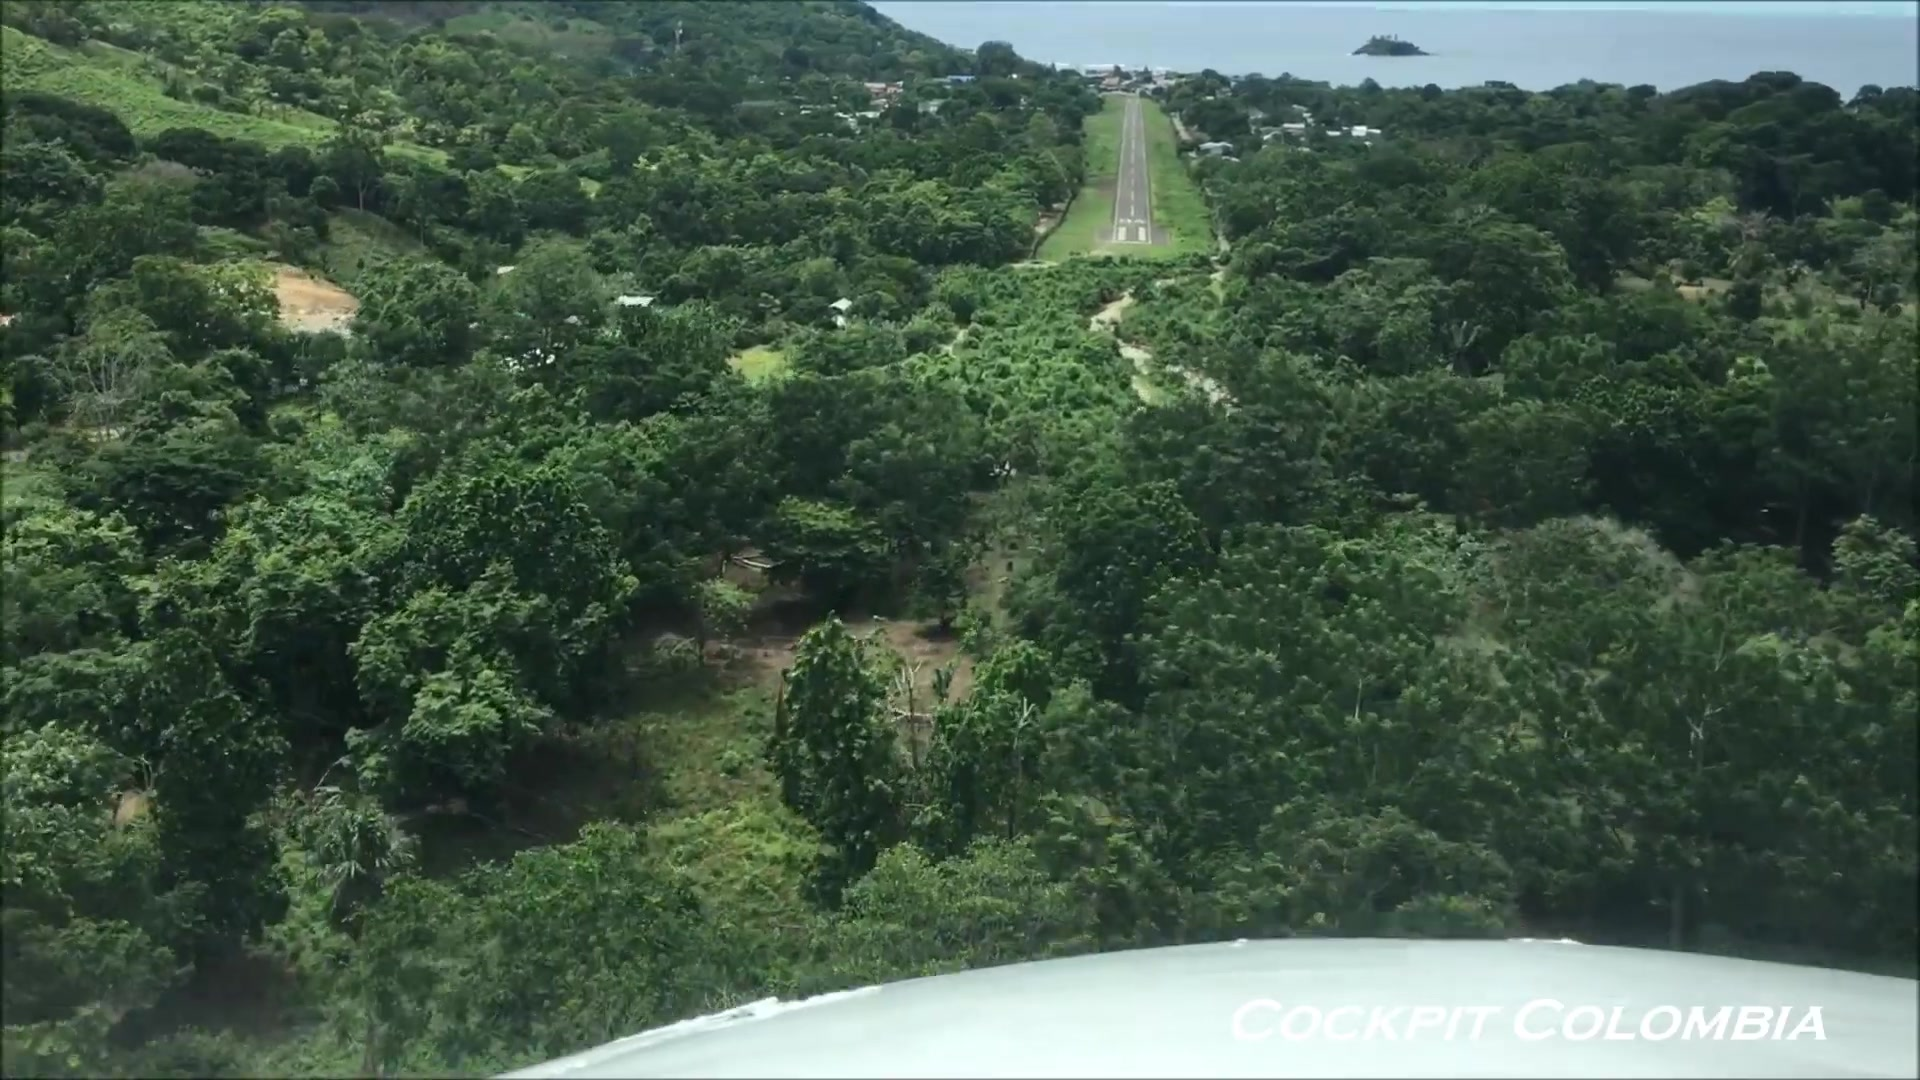entrance: (1112, 225, 1149, 241)
runway: (1110, 99, 1151, 245)
